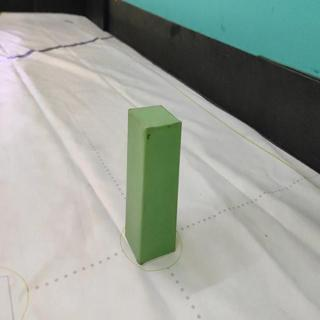greenbox: (125, 103, 183, 267)
